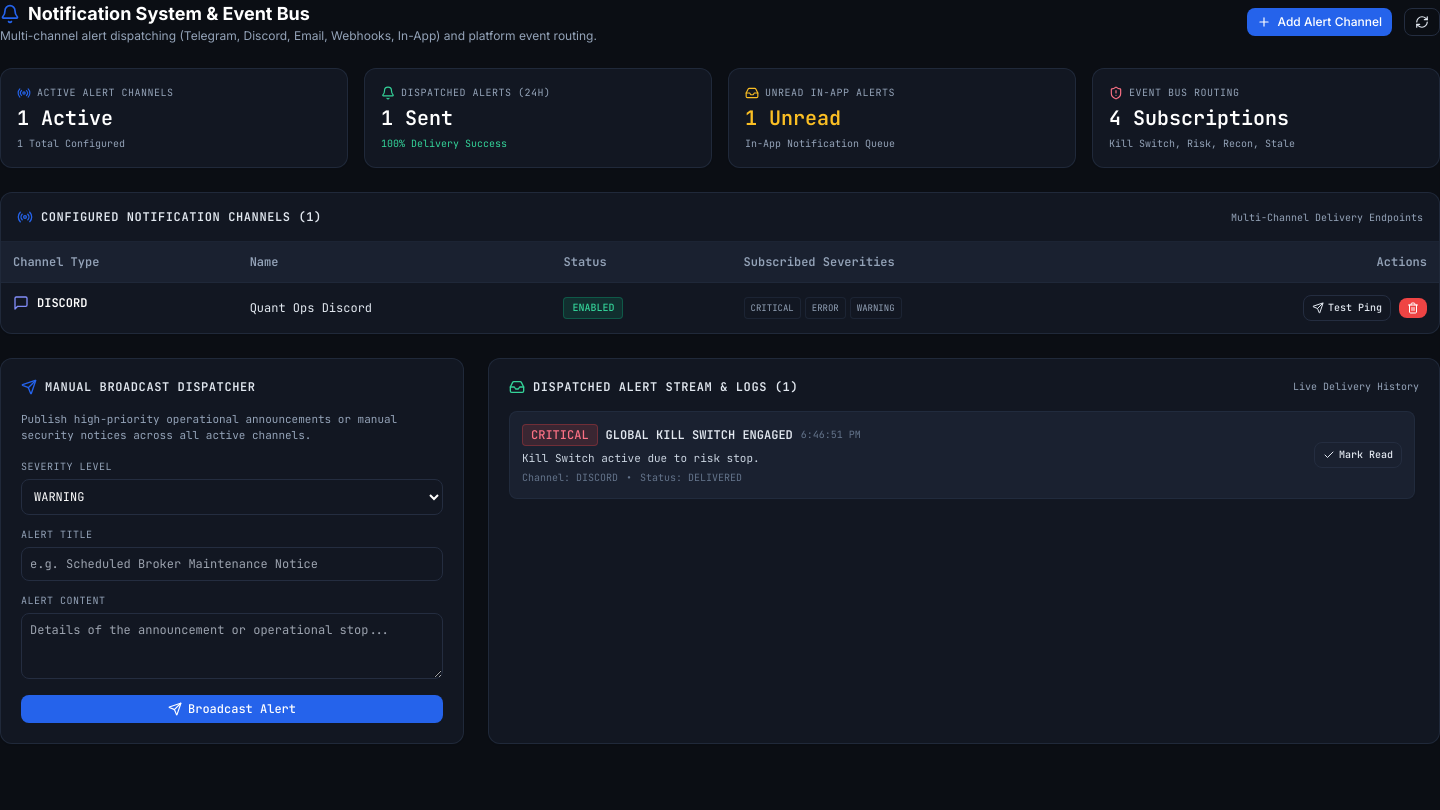
Test: NotificationCenterPage › tests channel connectivity ping
This screenshot has width=1440, height=810.
Click the button "Test Ping": (1347, 308) [1303,295,1391,321]
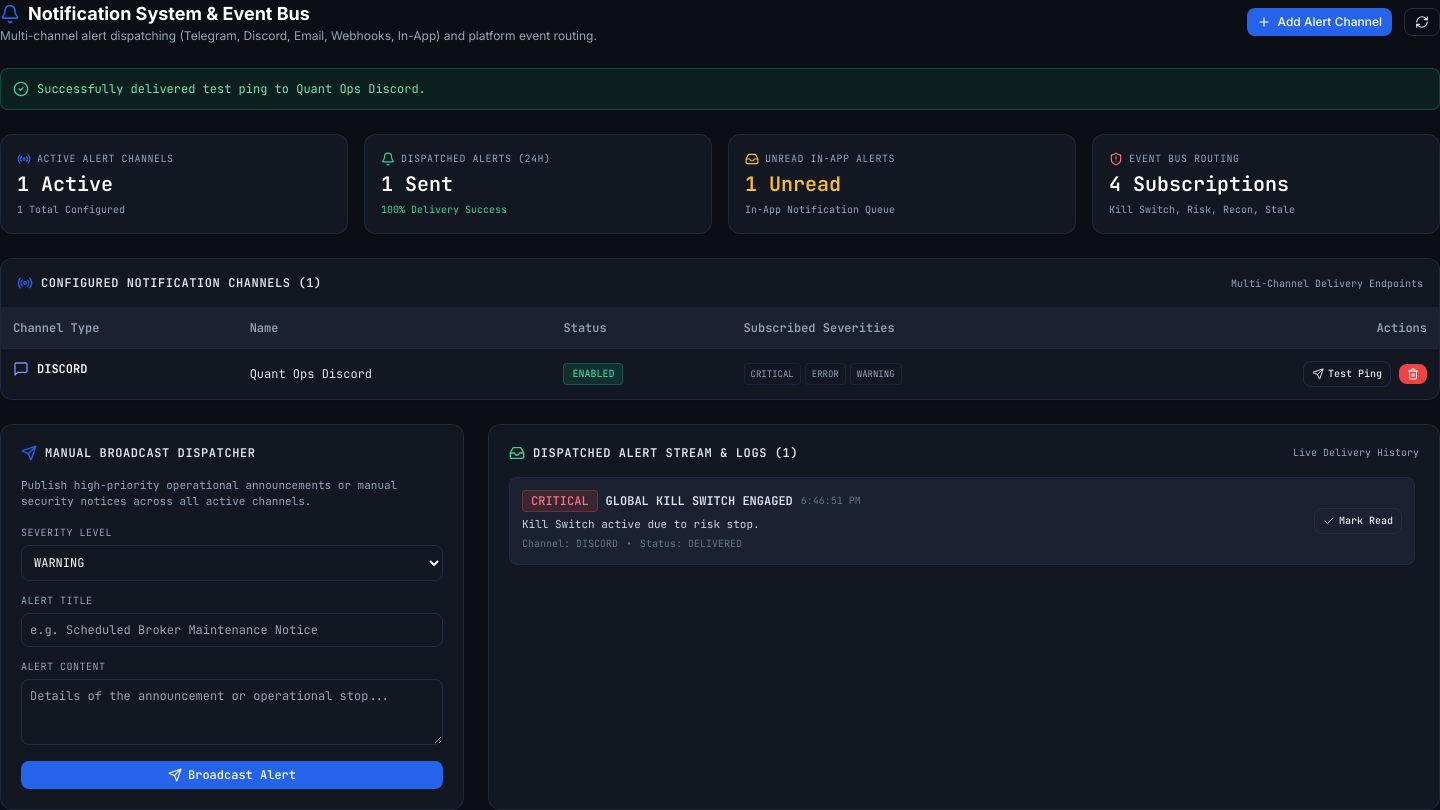
Expected: the text "Successfully delivered test ping to Quant Ops Discord." is shown, [37,81,426,97]
